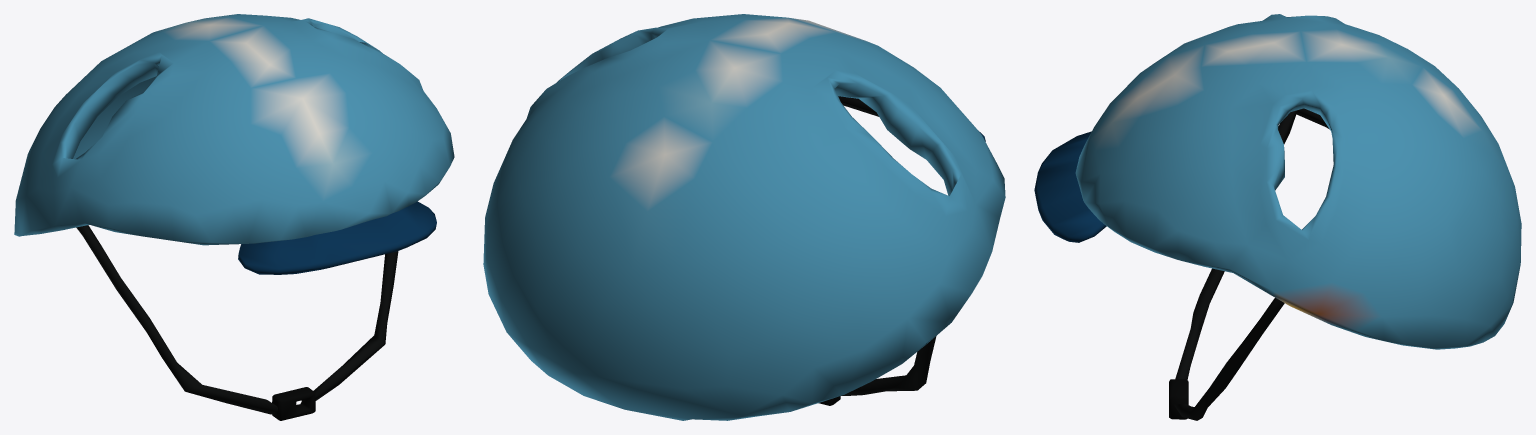
The model's file is mubaohiem.glb.
3 renders of one model, left to right at view 1: azimuth 30°, elevation 25°; view 2: azimuth 150°, elevation 25°; view 3: azimuth 270°, elevation 25°, orthographic. The views are drawn at different scales.
Visible parts, largest first — view 1: Vo_Mu, Luoi_Trai, Quai_Cam, Khoa_Cai; view 2: Vo_Mu, Quai_Cam; view 3: Vo_Mu, Luoi_Trai, Quai_Cam, Khoa_Cai.
Boxes of the visible parts, x1,y1,x2,y2 form: Vo_Mu: [14, 14, 454, 245]; Luoi_Trai: [238, 201, 436, 274]; Quai_Cam: [76, 225, 398, 414]; Khoa_Cai: [272, 387, 315, 420]; Vo_Mu: [483, 14, 1005, 420]; Quai_Cam: [841, 336, 936, 395]; Vo_Mu: [1075, 14, 1521, 349]; Luoi_Trai: [1034, 131, 1106, 242]; Quai_Cam: [1174, 110, 1297, 420]; Khoa_Cai: [1169, 379, 1188, 419].
Bounding box in the file's own units: 0.2974 × 0.245 × 0.2951.
